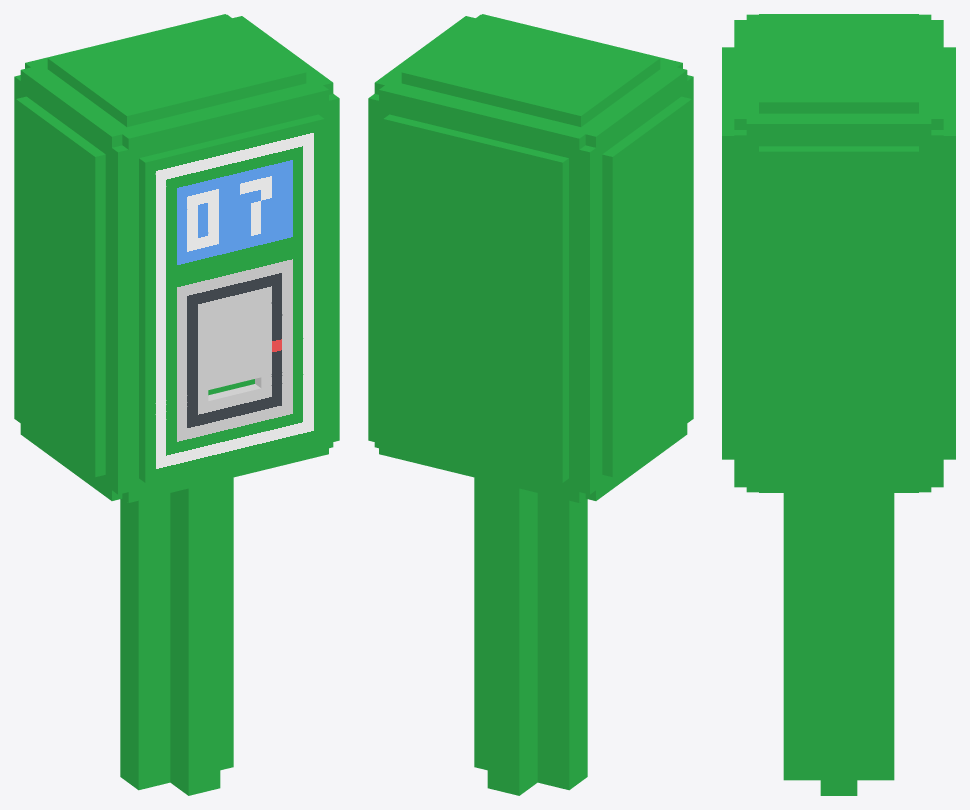
Rendered from 投递箱.gltf.
The picture shows the model from 3 angles, left to right: view 1: azimuth 30°, elevation 25°; view 2: azimuth 150°, elevation 25°; view 3: azimuth 270°, elevation 25°; orthographic projection.
Parts seen in each view (by area): view 1: Object; view 2: Object; view 3: Object.
Boxes of the visible parts, <box> form: Object: <box>14,14,339,795</box>; Object: <box>368,14,693,795</box>; Object: <box>722,14,955,795</box>.
Size of the model in its own units: 23 by 64 by 19.
1 material, 1 textured.
